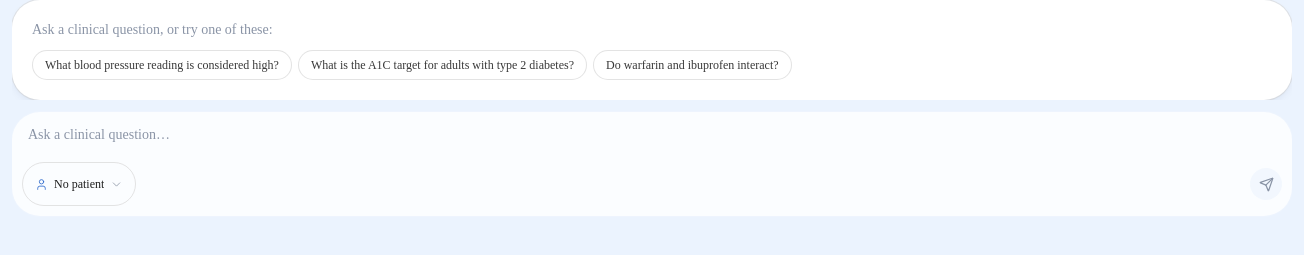
Test: CopilotPanel answer_delta streaming › clears the streamed answer on a reset:true delta
This screenshot has width=1304, height=255.
Type "first-line therapy?" into the text box with placeholder "Ask a clinical question…" at (652, 134), box [12,112,1292,156]
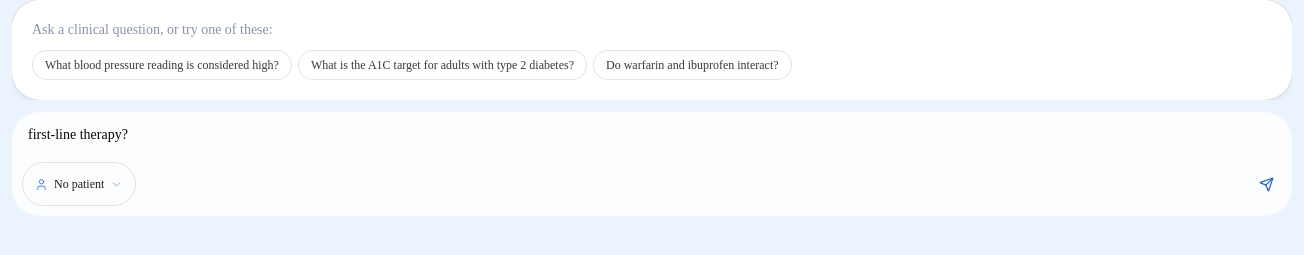
Click the button named "Send" at (1266, 184), box [1250,168,1282,200]
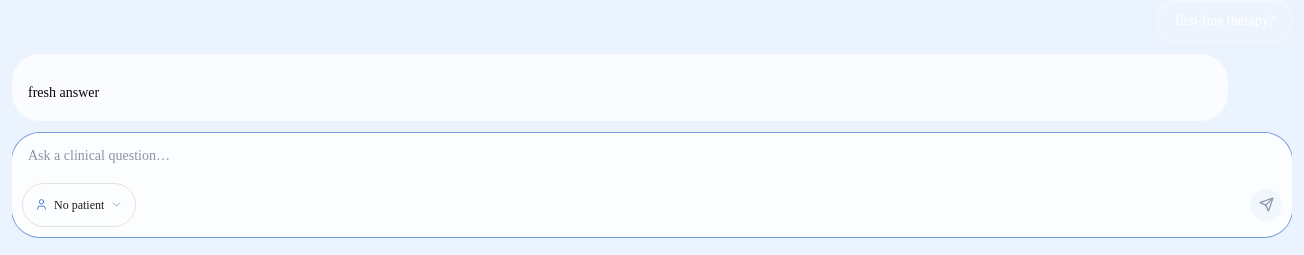
Check: the text "fresh answer" is shown, box [28,85,99,100]
